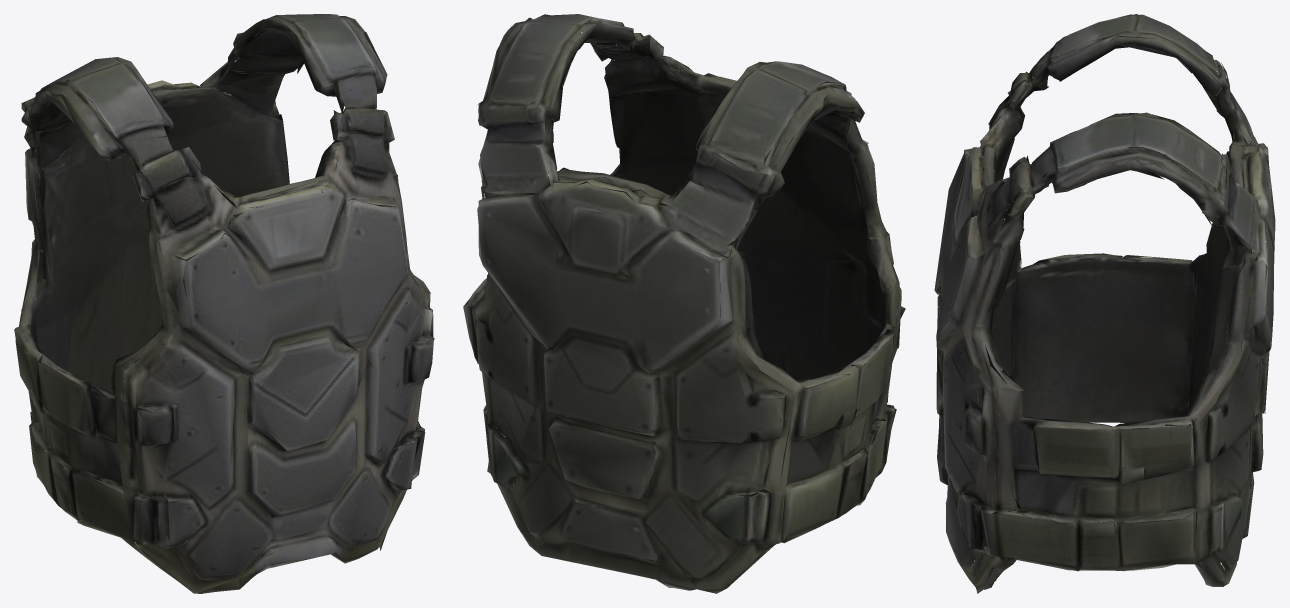
Rendered from Vest_Tactical.fbx.
3 renders of one model, left to right at view 1: azimuth 30°, elevation 25°; view 2: azimuth 150°, elevation 25°; view 3: azimuth 270°, elevation 25°, orthographic. The views are drawn at different scales.
Parts seen in each view (by area): view 1: GunMesh; view 2: GunMesh; view 3: GunMesh.
Part boxes in pixels (bbox=[...]): GunMesh: bbox=[14, 14, 434, 593]; GunMesh: bbox=[463, 14, 905, 593]; GunMesh: bbox=[934, 14, 1275, 593].
Bounding box in the file's own units: 0.5156 × 0.6524 × 0.4245.
1 material, 1 textured.
